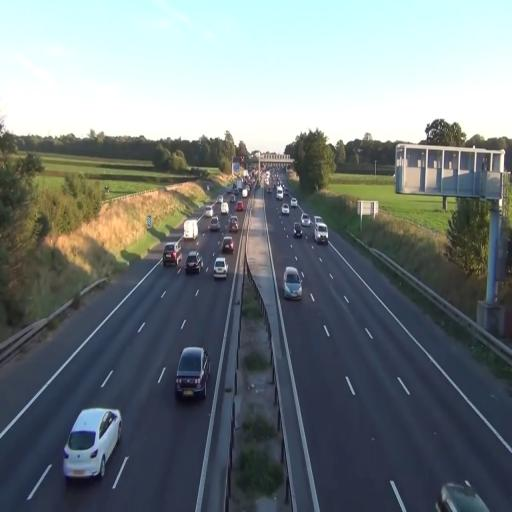vehicle: (62, 406, 123, 480), (175, 346, 209, 400), (283, 265, 303, 298), (162, 241, 182, 267), (185, 251, 203, 275), (314, 218, 329, 244), (214, 255, 228, 280), (221, 236, 235, 254), (292, 224, 302, 238)
